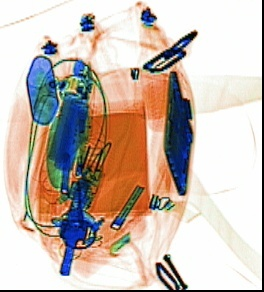powerbank: (45, 74, 91, 170)
